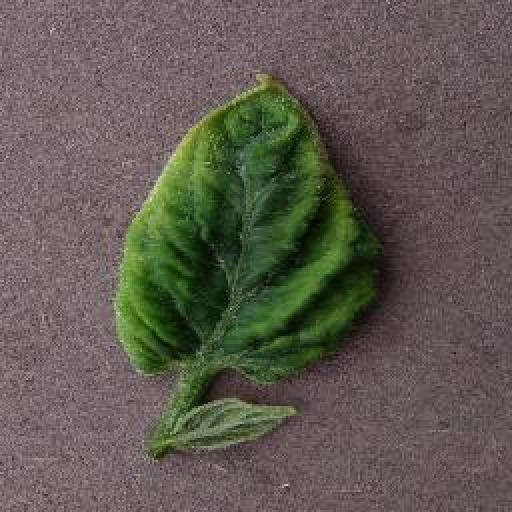disease_tomato: (118, 72, 384, 386)
